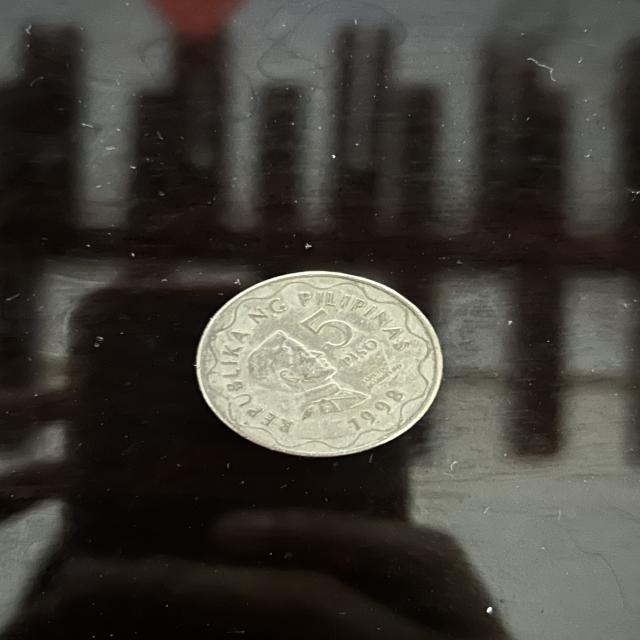5_Old_Front: (218, 297, 418, 443)
